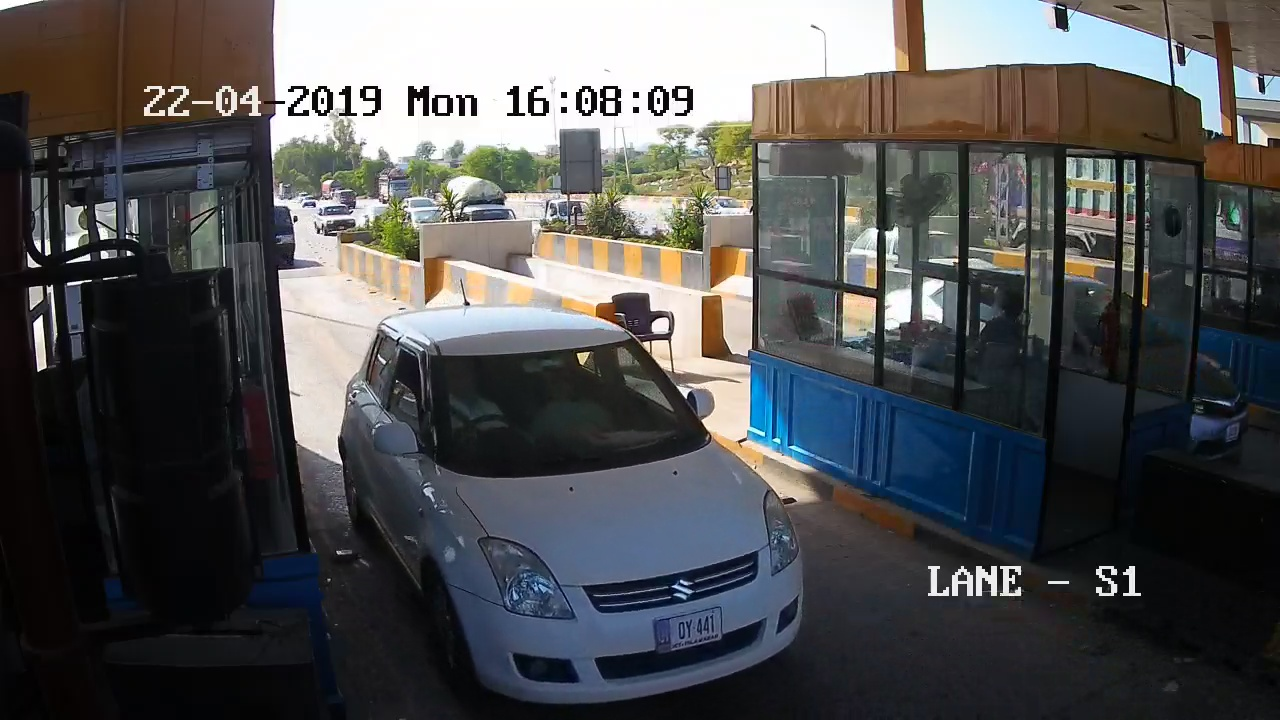Number Plate (Car): (654, 610, 721, 652)
